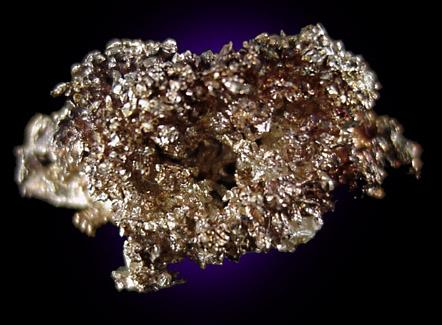silver: (17, 24, 422, 292)
